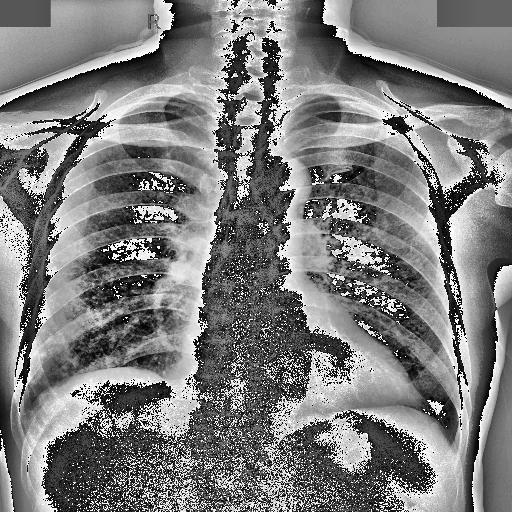10- Pleural effusion: (11, 392, 45, 431)
11- Pleural thickening: (11, 392, 45, 431)
5- ILD: (16, 122, 210, 414), (302, 104, 462, 426), (22, 132, 198, 391), (32, 125, 178, 384), (316, 122, 454, 388), (312, 128, 452, 367)
